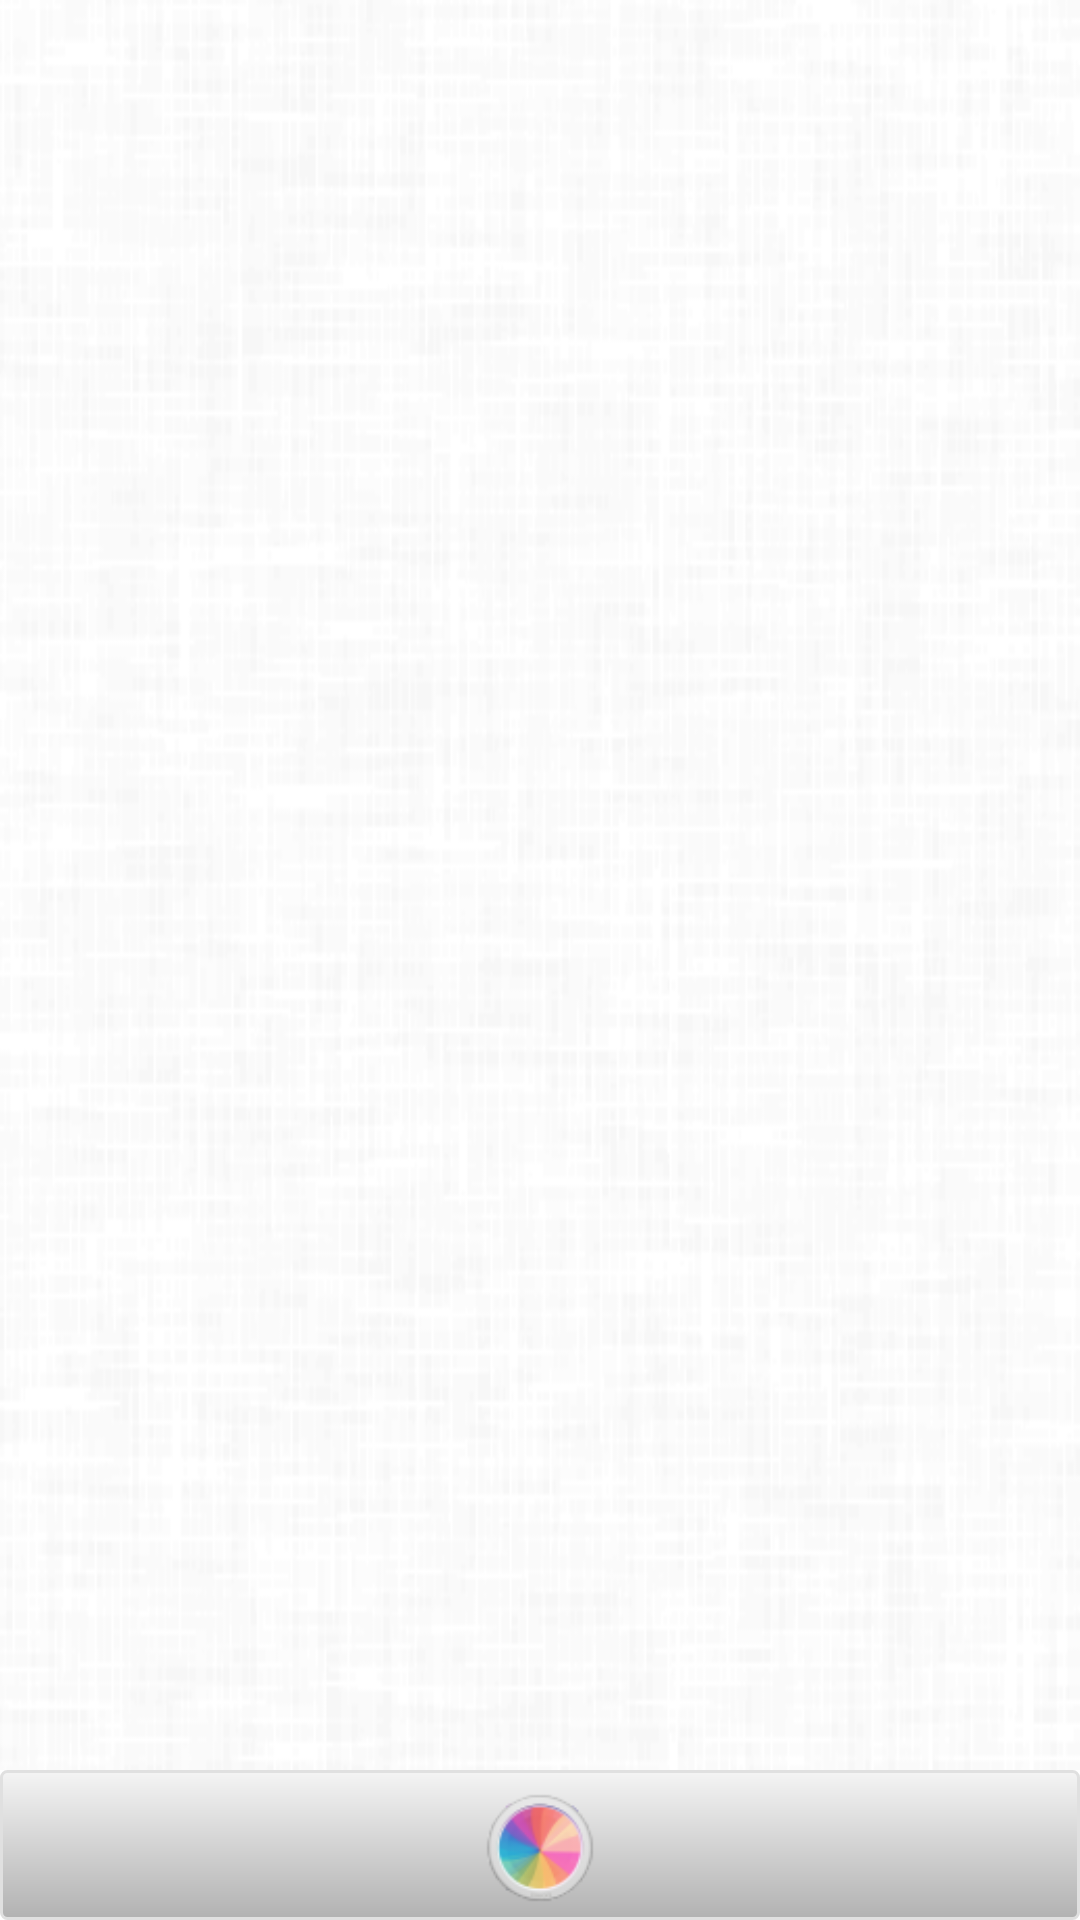

Point at icon controls on the screen. Image size 1080px×1920px, points as (x=x, y=y).
cambtn: (x=540, y=1848)
